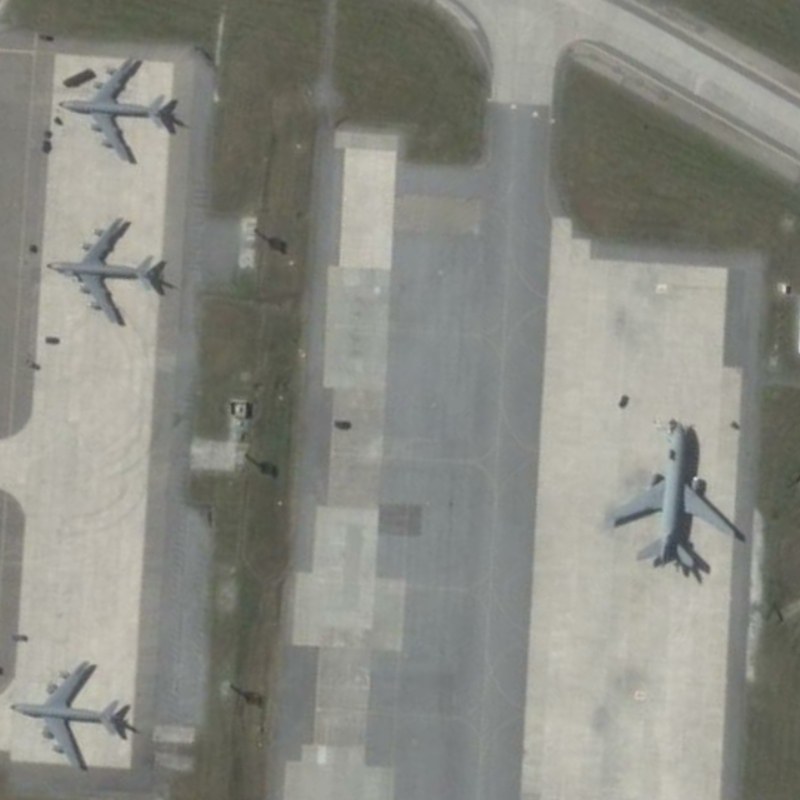A14: (7, 653, 141, 780), (37, 213, 164, 329), (55, 55, 180, 164)
A18: (605, 417, 743, 577)
